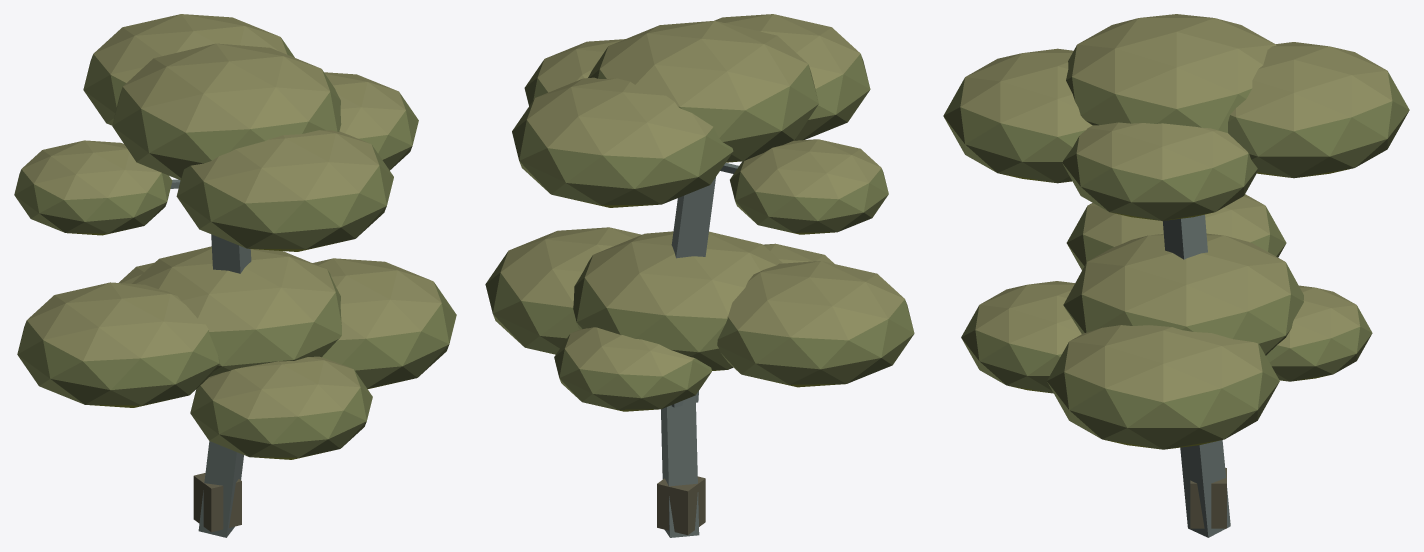
Rendered from SM_Pino_v3_LOD0.fbx.
3 views of the same model, side by side, from view 1: azimuth 30°, elevation 25°; view 2: azimuth 150°, elevation 25°; view 3: azimuth 270°, elevation 25° (orthographic). The views are drawn at different scales.
Visible parts, largest first — view 1: SM_pino_v3_LOD0; view 2: SM_pino_v3_LOD0; view 3: SM_pino_v3_LOD0.
Part boxes in pixels (<box>): SM_pino_v3_LOD0: <box>14,14,456,537</box>; SM_pino_v3_LOD0: <box>485,14,914,537</box>; SM_pino_v3_LOD0: <box>943,14,1409,537</box>.
Bounding box in the file's own units: 9.57 × 11.02 × 9.41.
